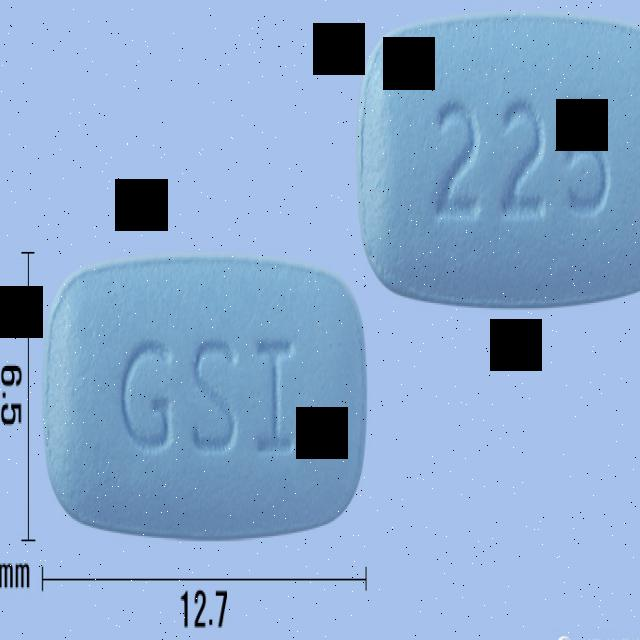Descovy: (43, 250, 371, 544), (353, 7, 640, 306)
